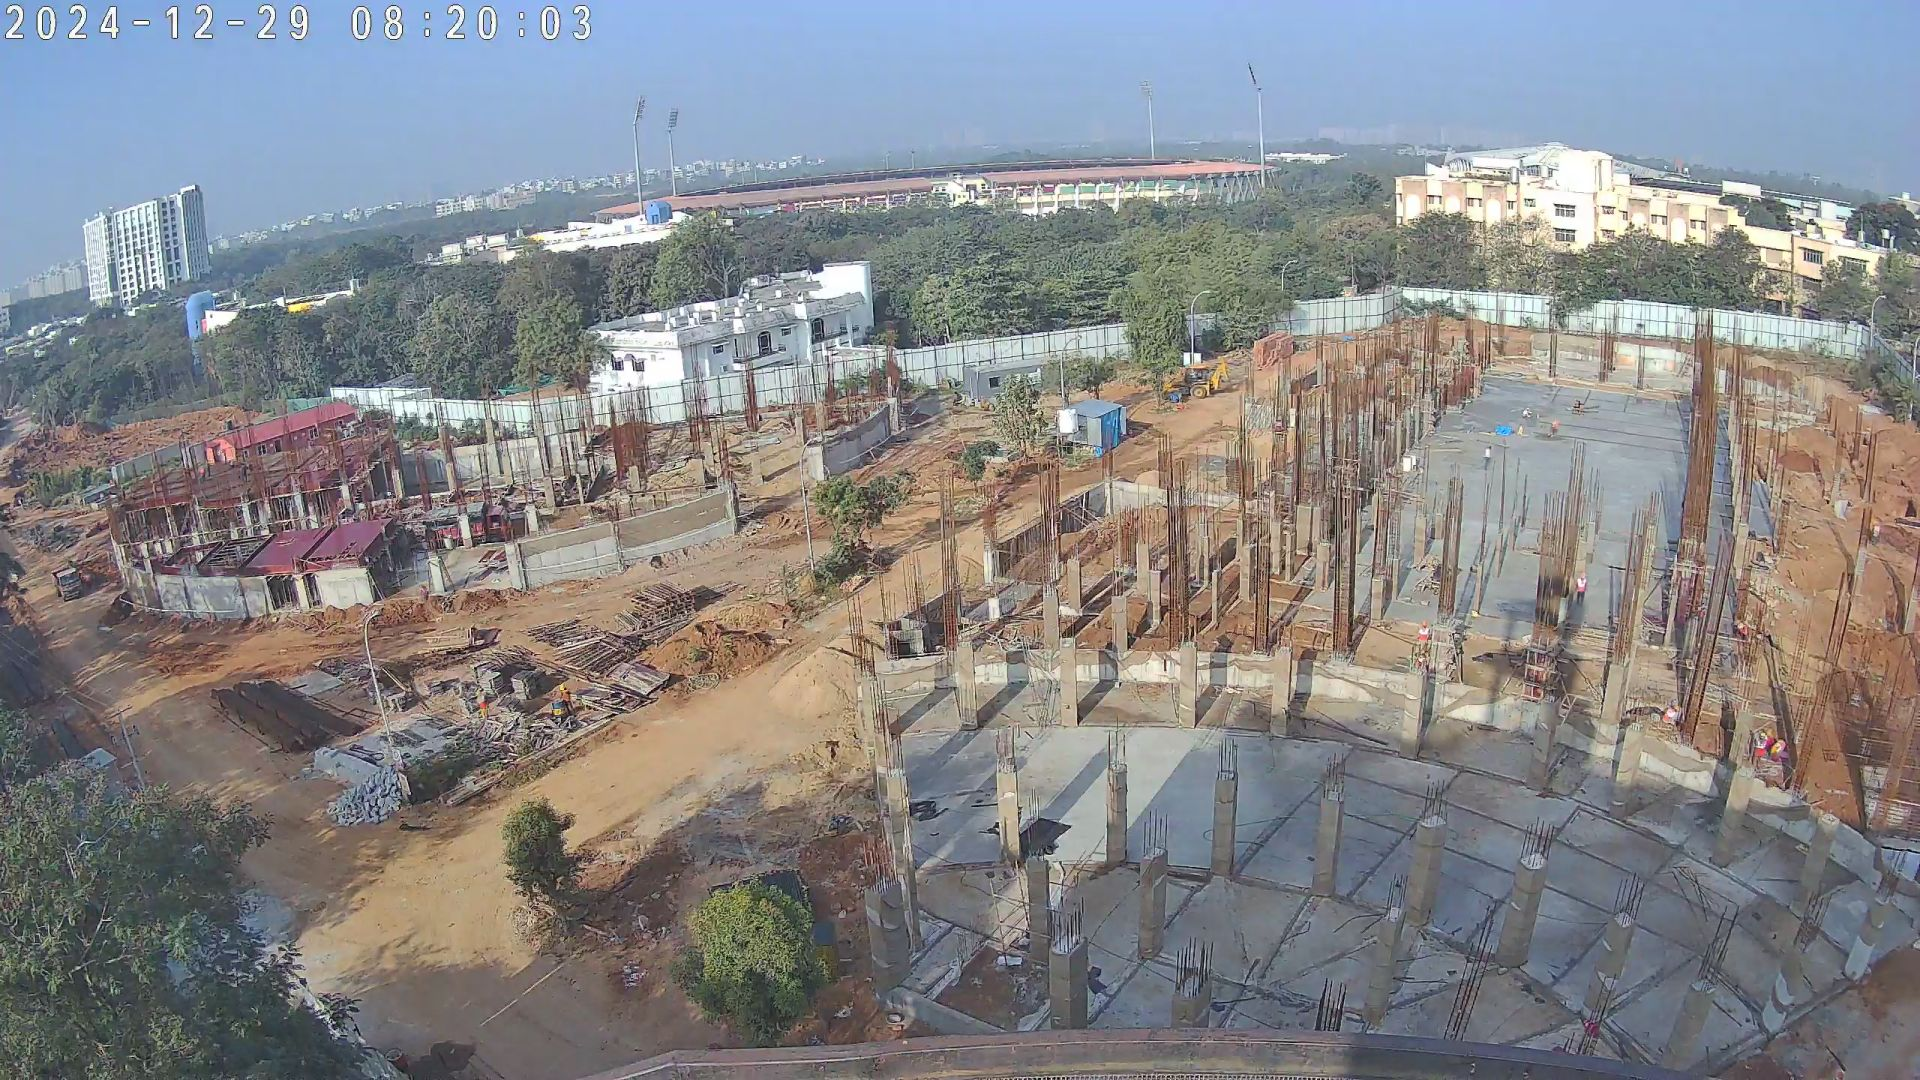bulldozer: (1157, 354, 1233, 403)
truck: (410, 501, 518, 549), (45, 564, 93, 603)
worker: (1657, 697, 1688, 732), (1415, 619, 1435, 661), (1751, 726, 1769, 768), (1765, 736, 1791, 765), (555, 682, 574, 720), (475, 686, 494, 723), (1735, 619, 1757, 645), (1573, 571, 1589, 606), (419, 580, 436, 607), (1547, 416, 1565, 441), (1481, 444, 1494, 471), (1272, 414, 1287, 434), (1523, 404, 1533, 424)
